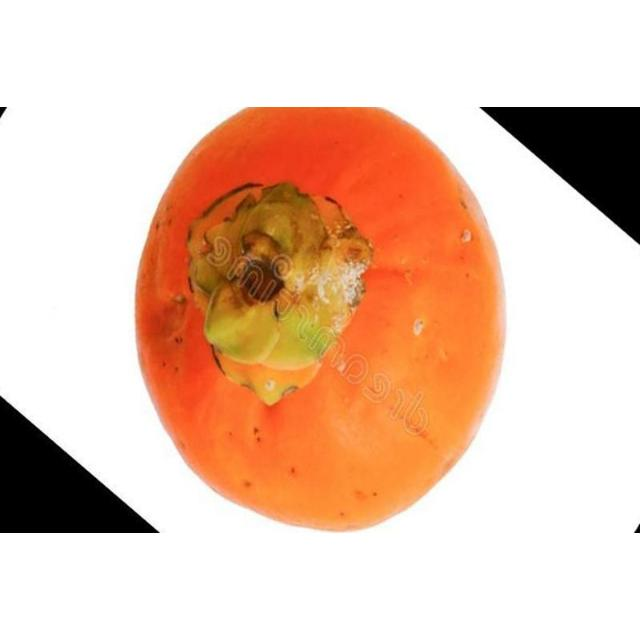good: (135, 107, 506, 533)
